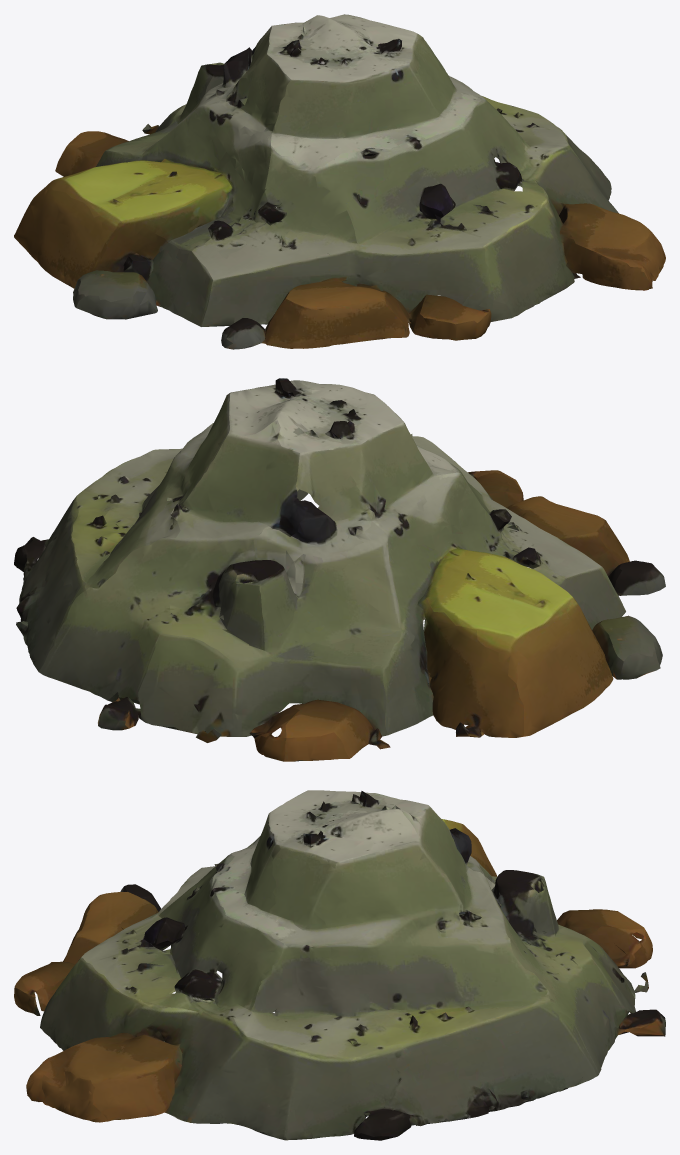
Rendered from item_ash.glb.
The picture shows the model from 3 angles, top to bottom: view 1: azimuth 30°, elevation 25°; view 2: azimuth 150°, elevation 25°; view 3: azimuth 270°, elevation 25°; orthographic projection. The views are drawn at different scales.
Visible parts, largest first — view 1: item_ash; view 2: item_ash; view 3: item_ash.
Part boxes in pixels (<box>): item_ash: <box>14,14,665,349</box>; item_ash: <box>14,378,665,761</box>; item_ash: <box>14,790,665,1140</box>.
Bounding box in the file's own units: 0.2 × 0.0696 × 0.1958.
1 material, 1 textured.
